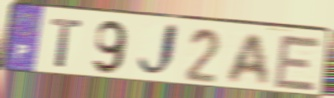2: (182, 26, 224, 85)
9: (90, 19, 131, 76)
A: (224, 32, 272, 86)
E: (271, 32, 324, 93)
J: (135, 21, 181, 81)
T: (49, 16, 85, 70)
